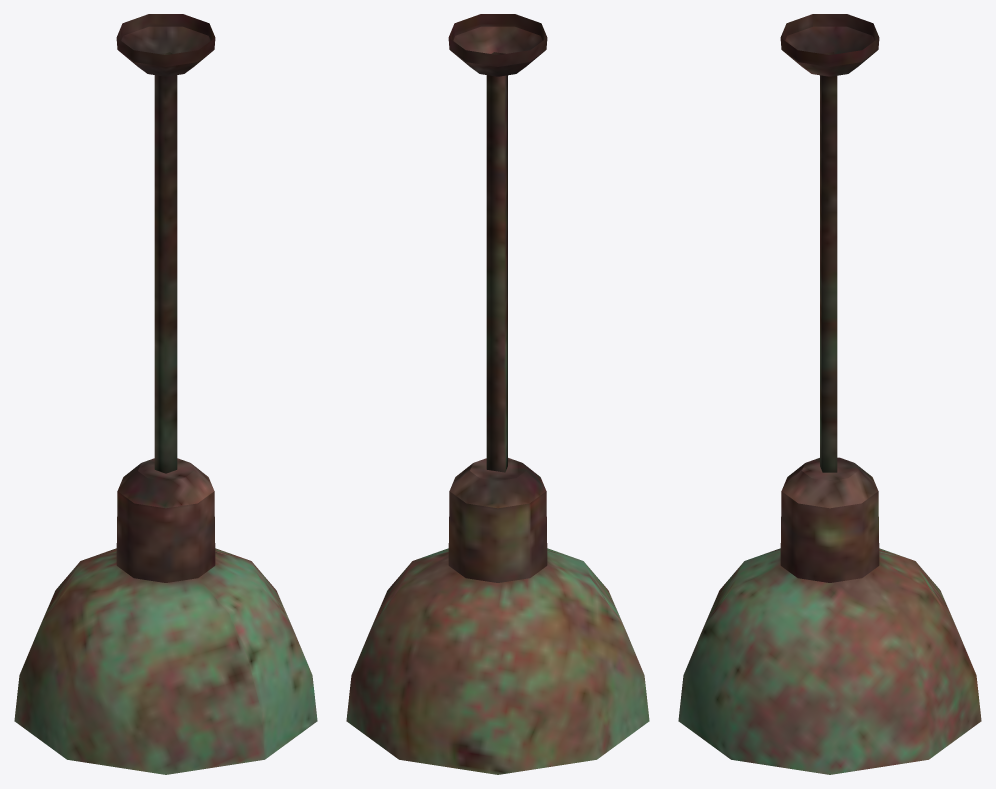
File: SingleLamp_CeilingMounted.FBX
The picture shows the model from 3 angles, left to right: view 1: azimuth 30°, elevation 25°; view 2: azimuth 150°, elevation 25°; view 3: azimuth 270°, elevation 25°; orthographic projection.
Visible parts, largest first — view 1: SingleLamp_CeilingMounted; view 2: SingleLamp_CeilingMounted; view 3: SingleLamp_CeilingMounted.
Boxes of the visible parts, x1,y1,x2,y2 form: SingleLamp_CeilingMounted: [14, 14, 317, 774]; SingleLamp_CeilingMounted: [346, 14, 649, 774]; SingleLamp_CeilingMounted: [678, 14, 981, 774].
Bounding box in the file's own units: 22.77 × 57.03 × 23.13.
